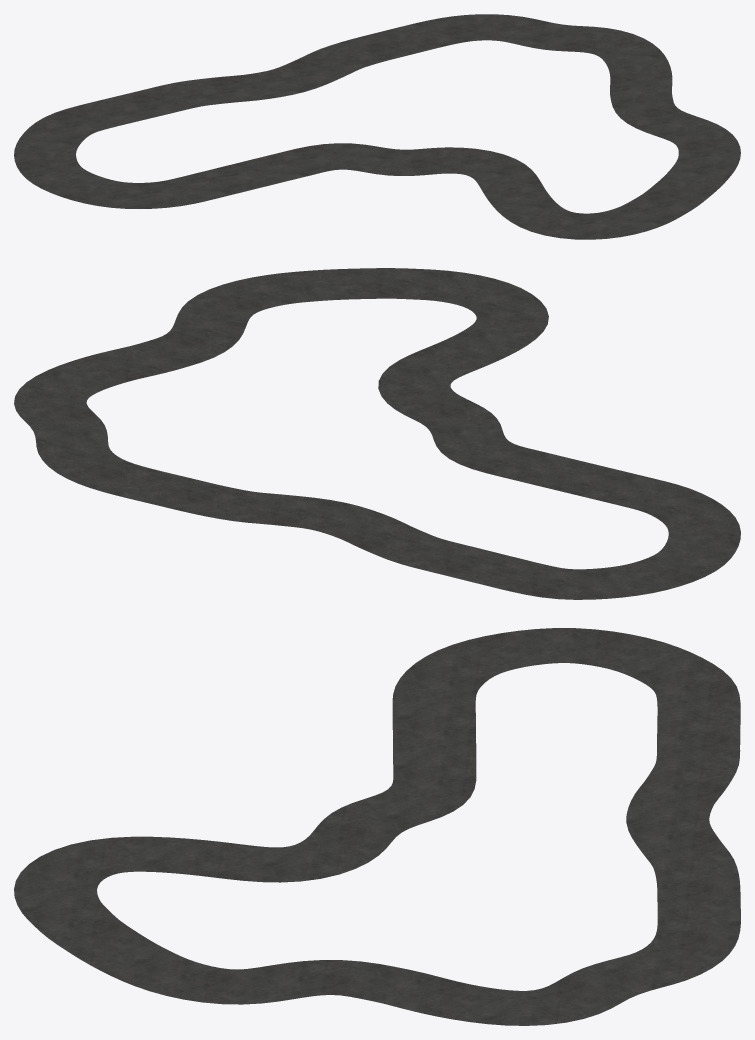
File: Mexico_track_road.dae
The picture shows the model from 3 angles, top to bottom: view 1: azimuth 30°, elevation 25°; view 2: azimuth 150°, elevation 25°; view 3: azimuth 270°, elevation 25°; orthographic projection. The views are drawn at different scales.
Parts seen in each view (by area): view 1: road; view 2: road; view 3: road.
Part boxes in pixels (x1=…): road: x1=14, y1=14, x2=740, y2=239; road: x1=14, y1=268, x2=740, y2=599; road: x1=14, y1=628, x2=740, y2=1025.
Size of the model in its own units: 7.48 by 5.77 by 0.
Materials: 1 (1 with a texture image).
